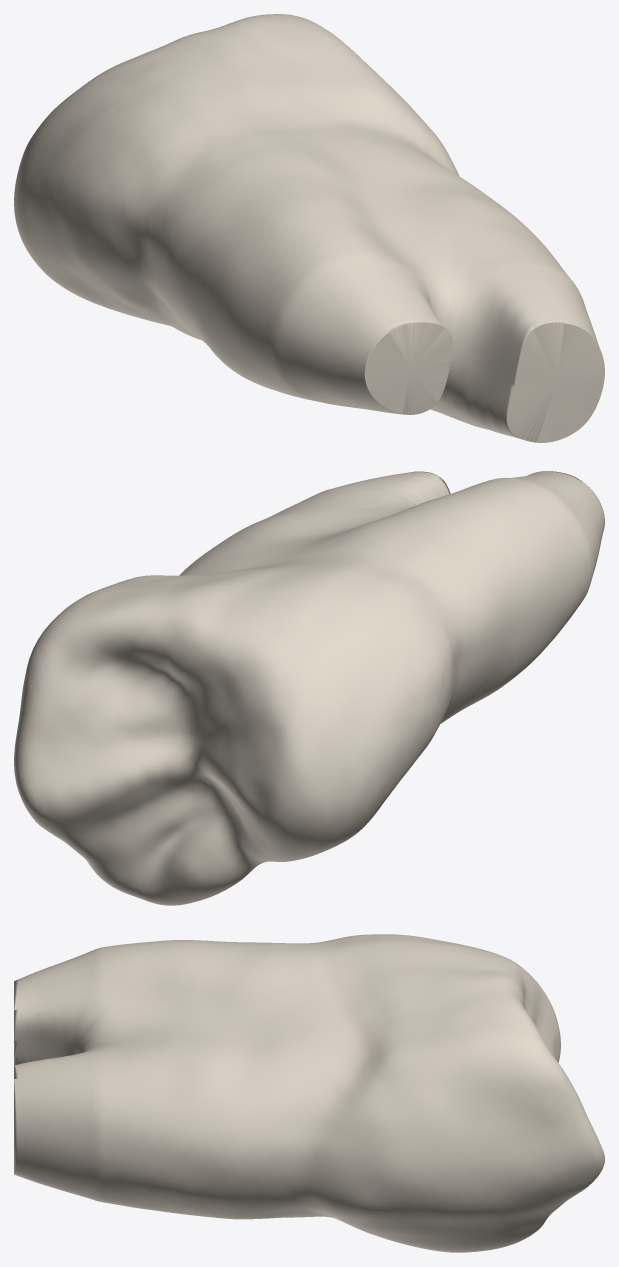
File: r3-prep-bridge-24.glb
3 views of the same model, one above another, from view 1: azimuth 30°, elevation 25°; view 2: azimuth 150°, elevation 25°; view 3: azimuth 270°, elevation 25° (orthographic). The views are drawn at different scales.
Bounding box in the file's own units: 7.57 × 6.05 × 12.57.
